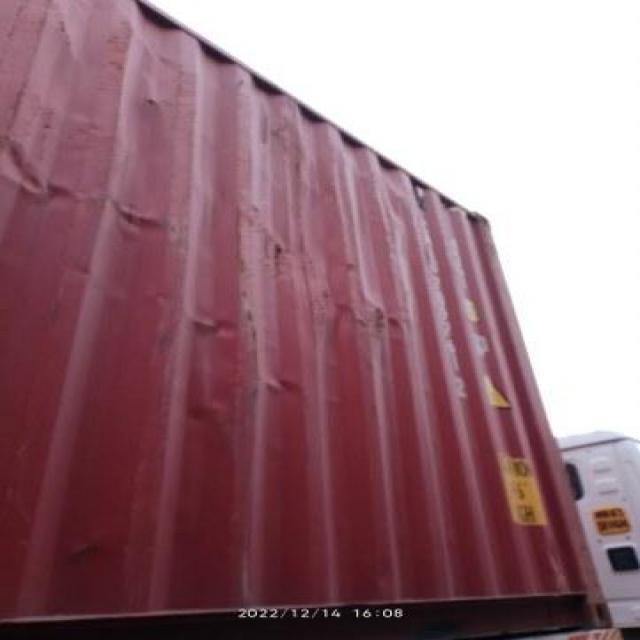Minor-Dent: (0, 135, 86, 207), (346, 298, 414, 345), (183, 304, 248, 343), (112, 204, 163, 235)
